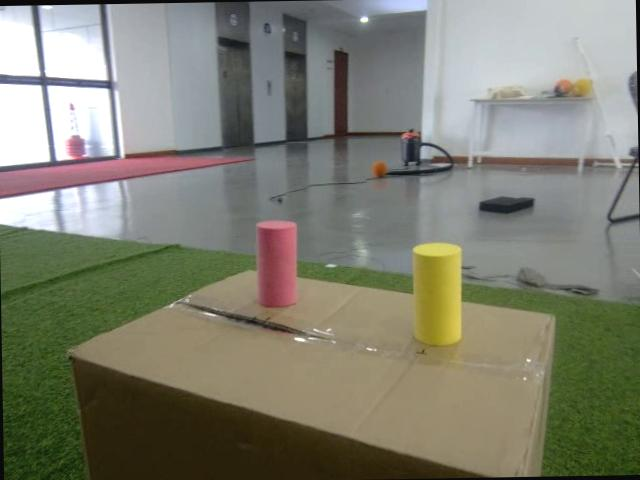red_cylinder: (252, 216, 302, 308)
yellow_cylinder: (408, 242, 464, 346)
